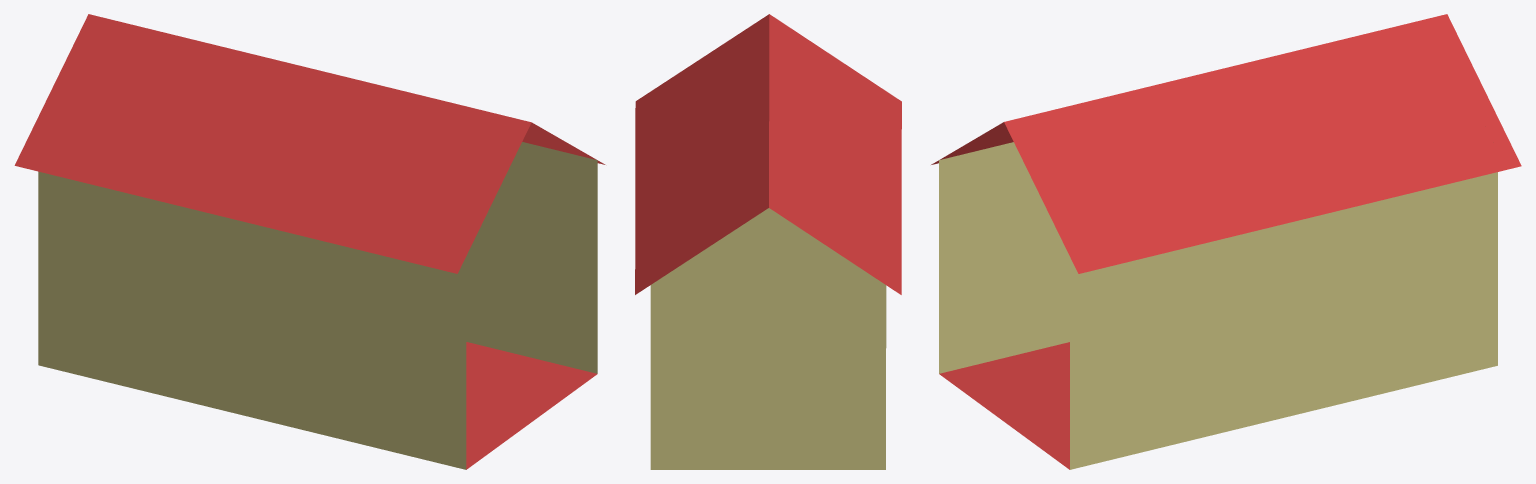
3 renders of one model, left to right at view 1: azimuth 30°, elevation 25°; view 2: azimuth 150°, elevation 25°; view 3: azimuth 270°, elevation 25°, orthographic. The views are drawn at different scales.
Size of the model in its own units: 14.76 by 17.02 by 9.52.
